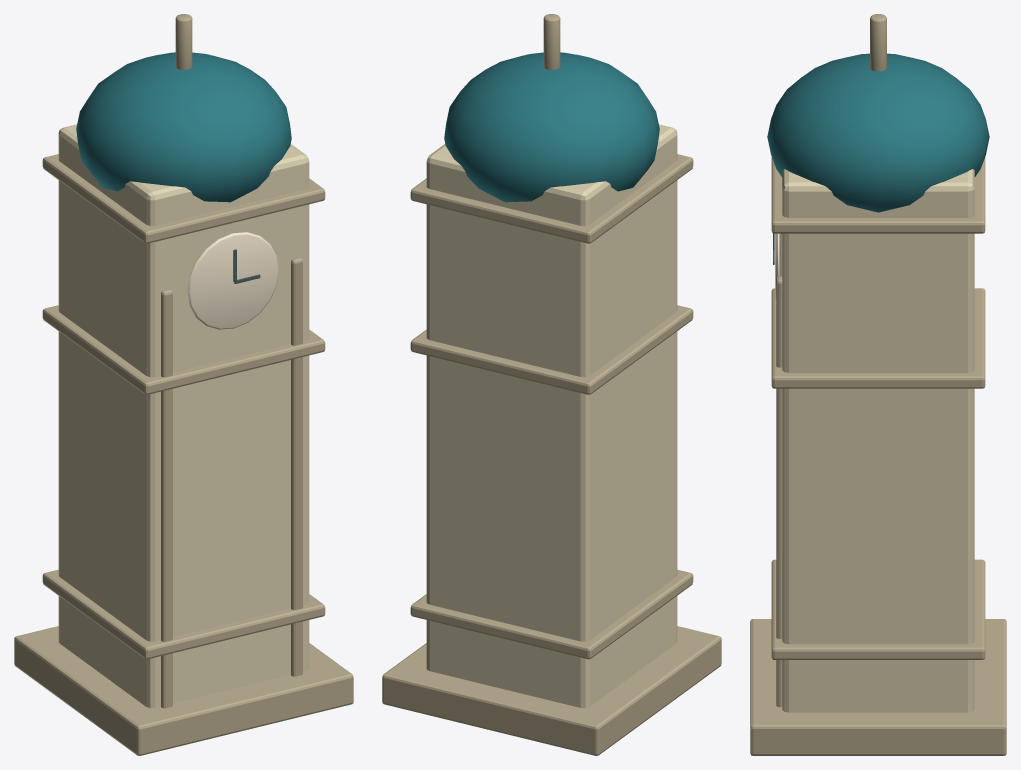
Rendered from clocktower.glb.
The picture shows the model from 3 angles, left to right: view 1: azimuth 30°, elevation 25°; view 2: azimuth 150°, elevation 25°; view 3: azimuth 270°, elevation 25°; orthographic projection. The views are drawn at different scales.
Parts seen in each view (by area): view 1: Geometry_Stucco, Geometry_Stone, Geometry_Roof, Geometry_Clock; view 2: Geometry_Stucco, Geometry_Stone, Geometry_Roof; view 3: Geometry_Stucco, Geometry_Stone, Geometry_Roof.
Part boxes in pixels (<box>): Geometry_Stucco: <box>58,124,309,708</box>; Geometry_Stone: <box>14,14,353,755</box>; Geometry_Roof: <box>76,52,291,202</box>; Geometry_Clock: <box>187,232,278,329</box>; Geometry_Stucco: <box>426,124,677,708</box>; Geometry_Stone: <box>382,14,721,755</box>; Geometry_Roof: <box>444,52,659,202</box>; Geometry_Stucco: <box>782,169,974,712</box>; Geometry_Stone: <box>750,14,1006,755</box>; Geometry_Roof: <box>767,53,989,212</box>.
Size of the model in its own units: 3 by 8.85 by 3.
